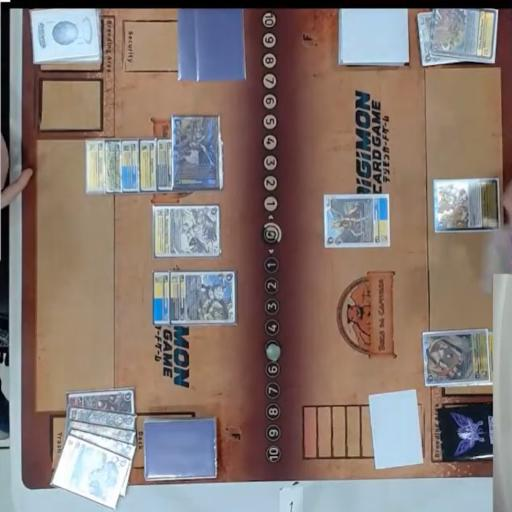card: (51, 438, 130, 512), (67, 422, 136, 490), (420, 326, 488, 390), (432, 177, 501, 238), (150, 201, 224, 256), (172, 113, 223, 191), (321, 194, 394, 248), (171, 271, 241, 325), (430, 7, 499, 60), (63, 404, 138, 432), (63, 385, 144, 410), (58, 421, 138, 446), (120, 138, 148, 194), (85, 138, 108, 198), (150, 272, 175, 327), (416, 8, 439, 66), (140, 138, 162, 191), (156, 136, 176, 194), (105, 138, 125, 195)
